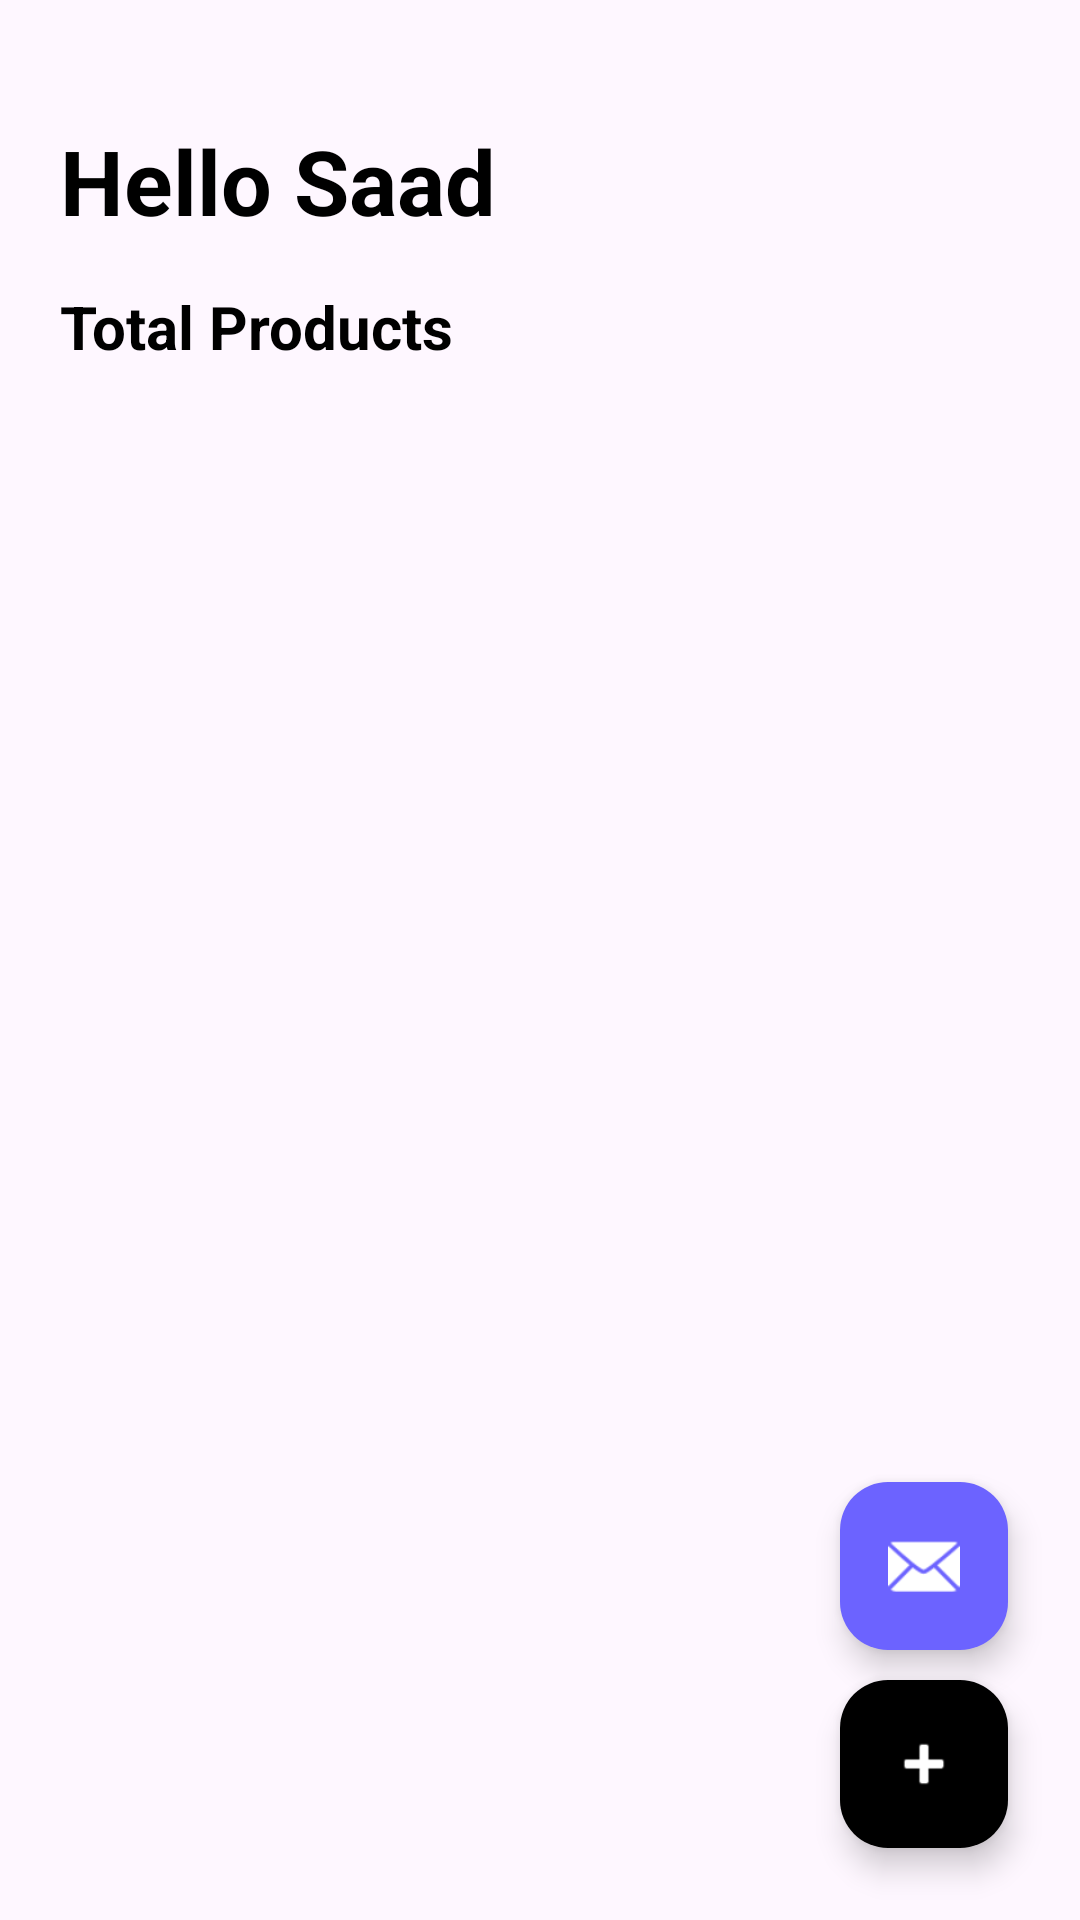

Icons on this 1080*1920 Android screen, each with its box as Rect(x1, y1, x2, y2):
Add Product: Rect(840, 1680, 1008, 1848)
Chat: Rect(840, 1482, 1008, 1650)
